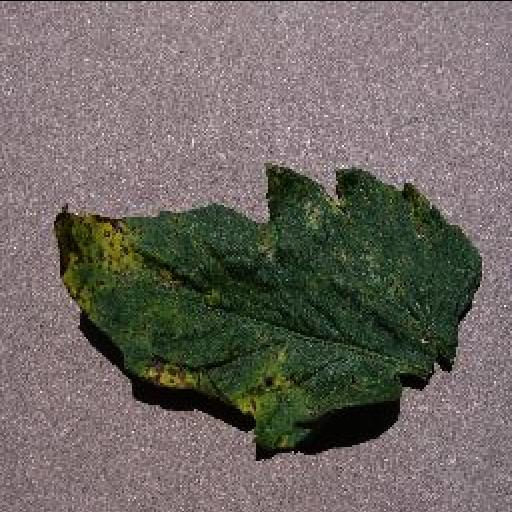disease_tomato: (56, 162, 486, 450)
